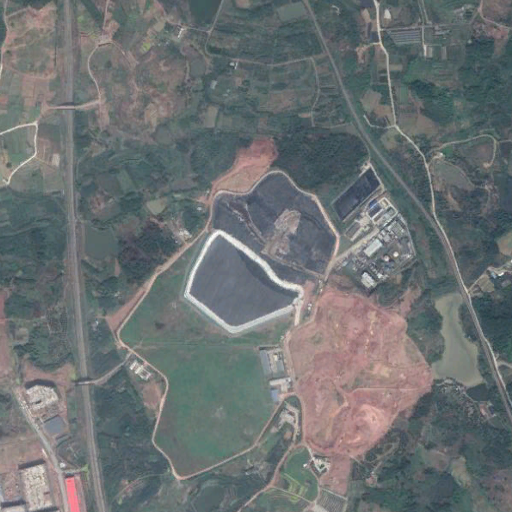lf: (181, 168, 339, 334)
